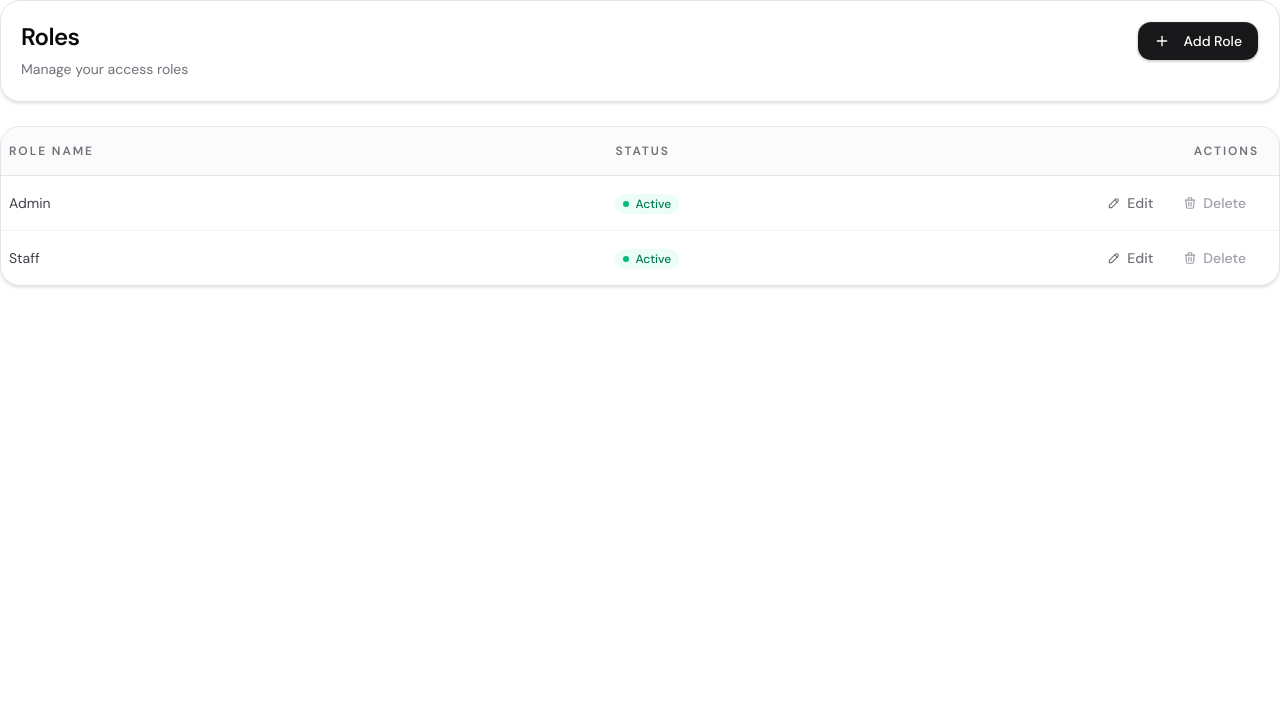
Test: RolesModule › opens edit dialog with role data pre-populated
// Safe: getAllByRole throws if empty, so index [0] is always defined
Click the button "Edit" in the row of "Admin": (1130, 203) [1094,187,1166,219]
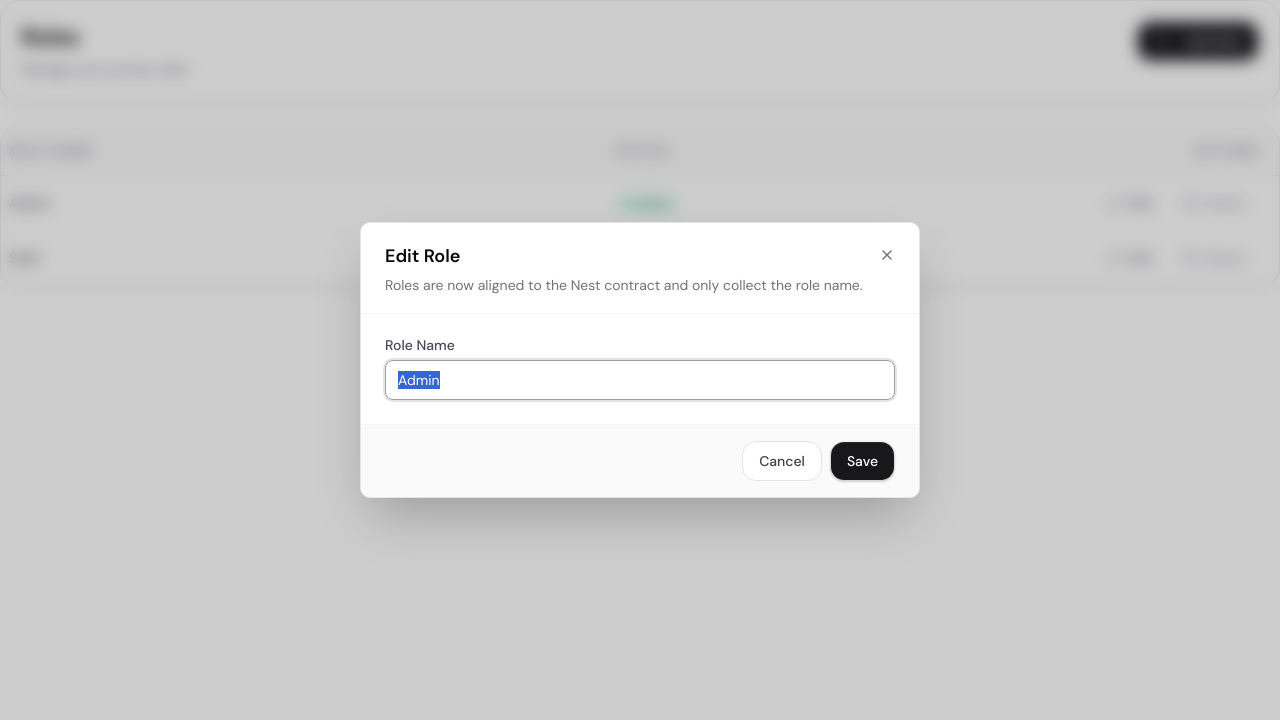
Now the dialog is shown, box [360,222,920,498]
Now the field showing "Admin" is shown, box [385,360,895,400]
